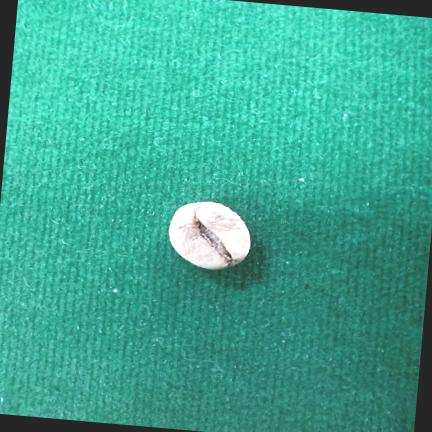immature: (169, 202, 250, 269)
